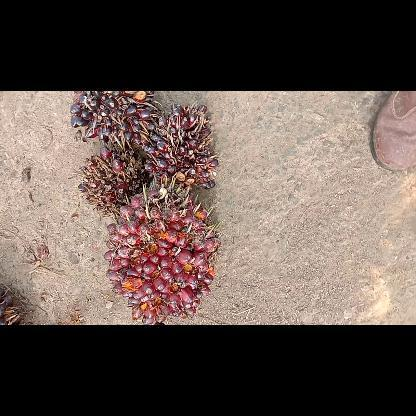TBS abnormal: (144, 104, 218, 188), (70, 91, 156, 147), (78, 147, 146, 209)
TBS masak: (102, 184, 220, 322)
